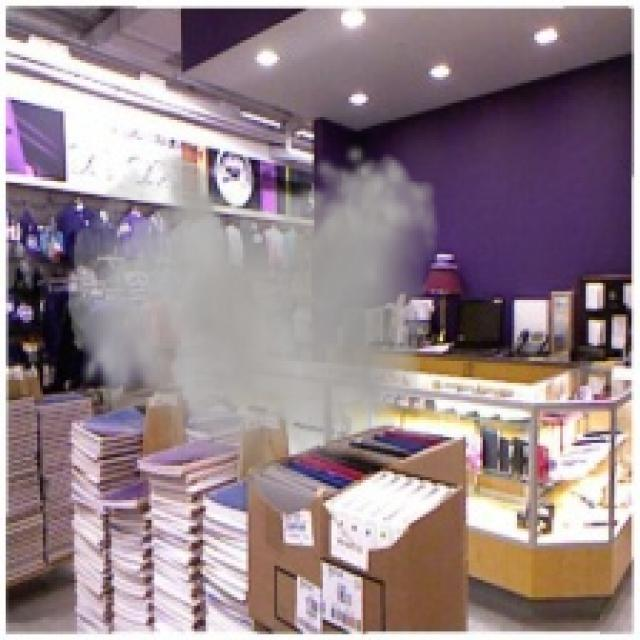smoke: (69, 143, 440, 514)
